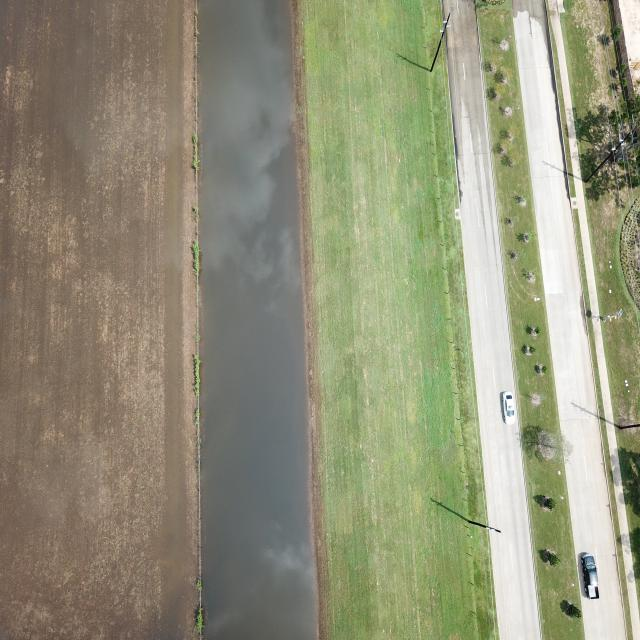fire: (198, 0, 317, 639)
